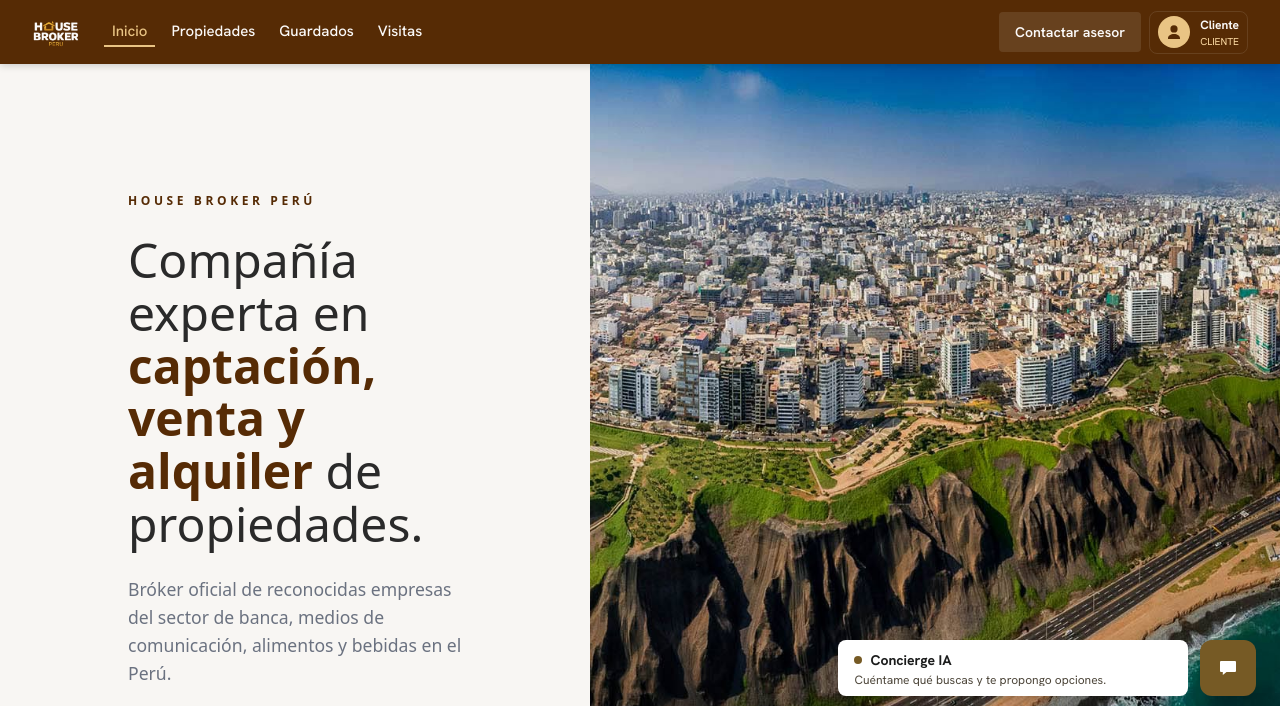
App: favoritos con MSW (TASK-TEST-PROP-05) › mantiene la sección "Mis guardados" vacía si el servidor no devuelve favoritos
Click the button "Guardados": [317, 32] box [271,17,362,47]
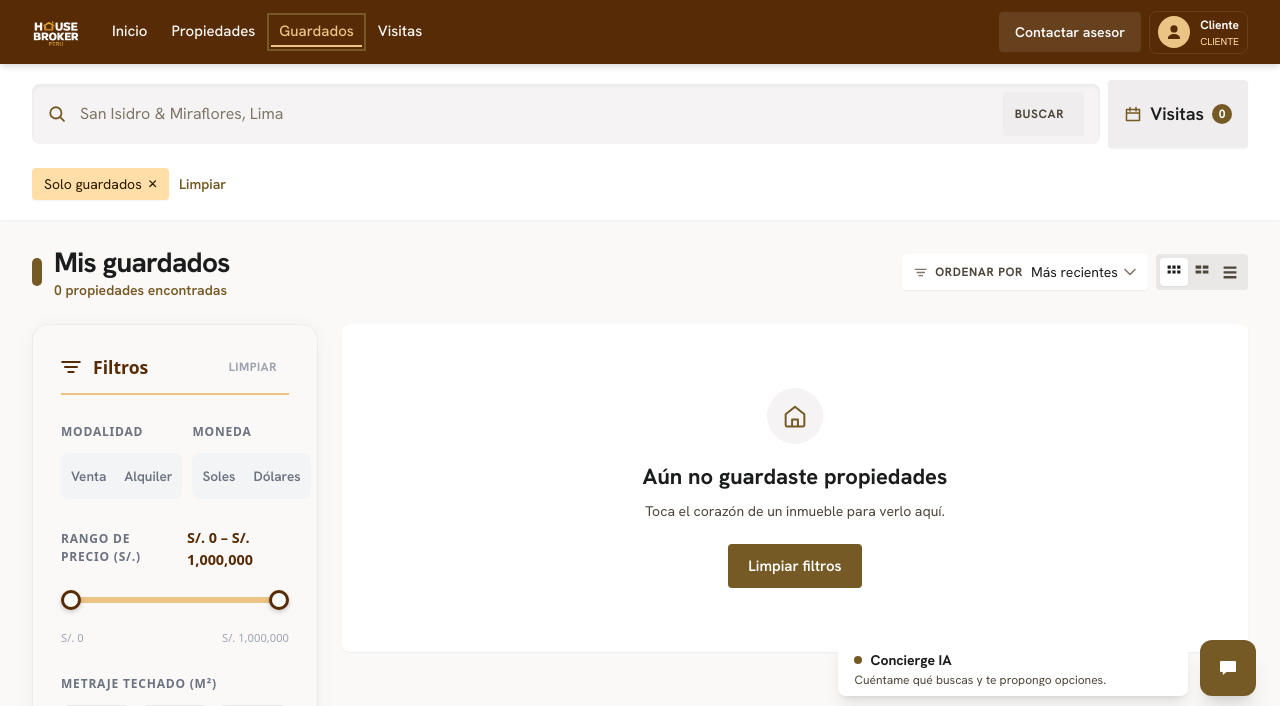
Expected: the heading "Mis guardados" is shown, [54,244,230,280]
